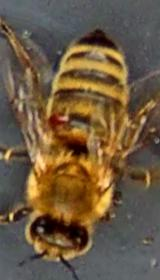varroa_mite: (37, 108, 73, 136)
